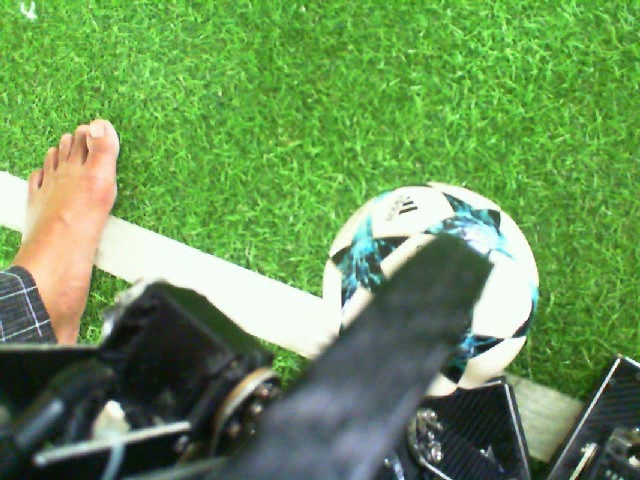ball: (320, 175, 541, 399)
